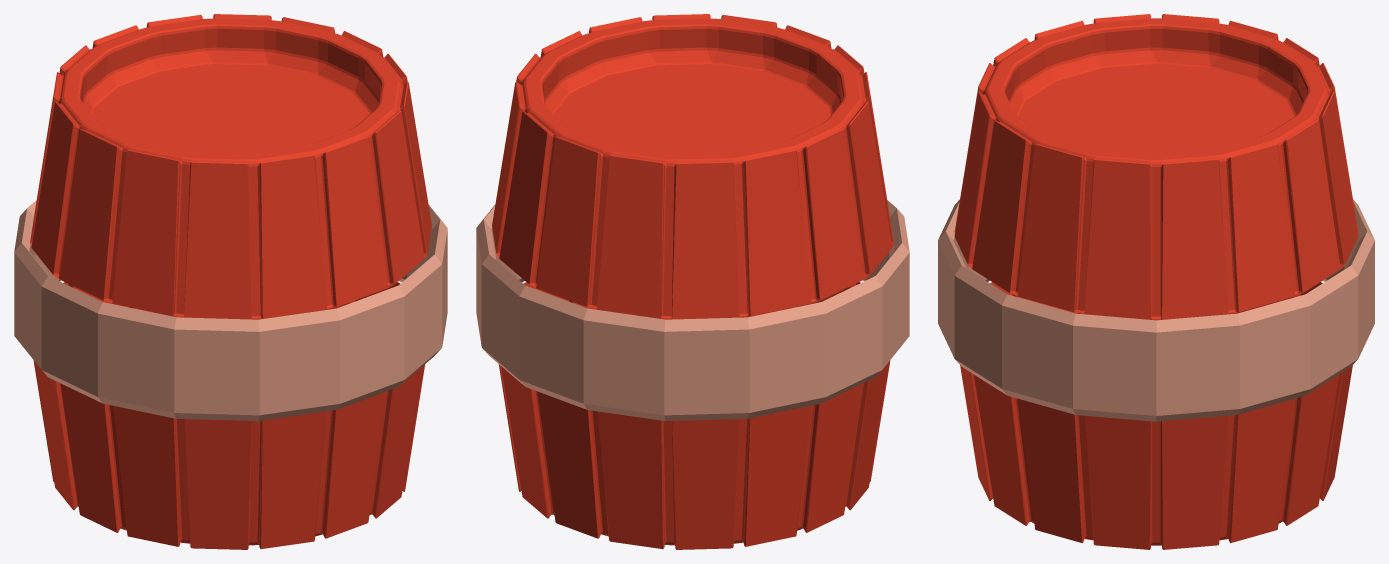
File: Barrel.fbx
The picture shows the model from 3 angles, left to right: view 1: azimuth 30°, elevation 25°; view 2: azimuth 150°, elevation 25°; view 3: azimuth 270°, elevation 25°; orthographic projection.
Visible parts, largest first — view 1: Cylinder, Cylinder.001; view 2: Cylinder, Cylinder.001; view 3: Cylinder, Cylinder.001.
Boxes of the visible parts, <box> form: Cylinder: <box>30,14,431,549</box>; Cylinder.001: <box>14,200,447,420</box>; Cylinder: <box>492,14,893,549</box>; Cylinder.001: <box>476,200,909,420</box>; Cylinder: <box>954,14,1358,549</box>; Cylinder.001: <box>938,199,1374,421</box>.
Bounding box in the file's own units: 277 × 271 × 277.
